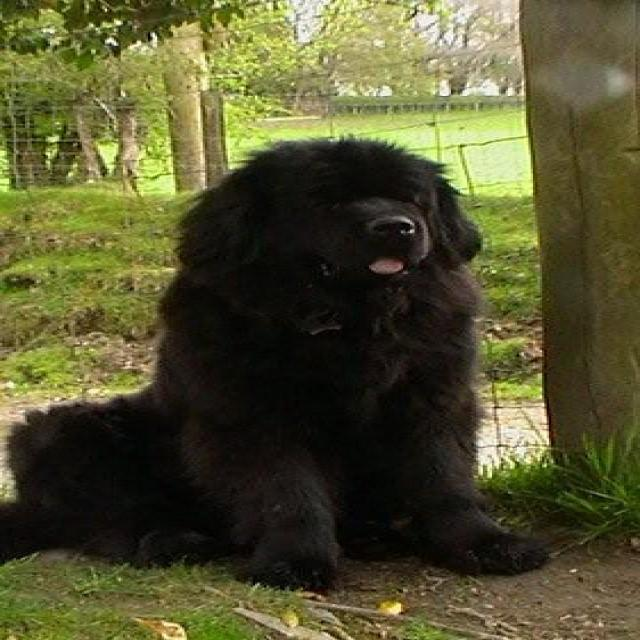dog-newfoundland: (2, 125, 569, 608)
